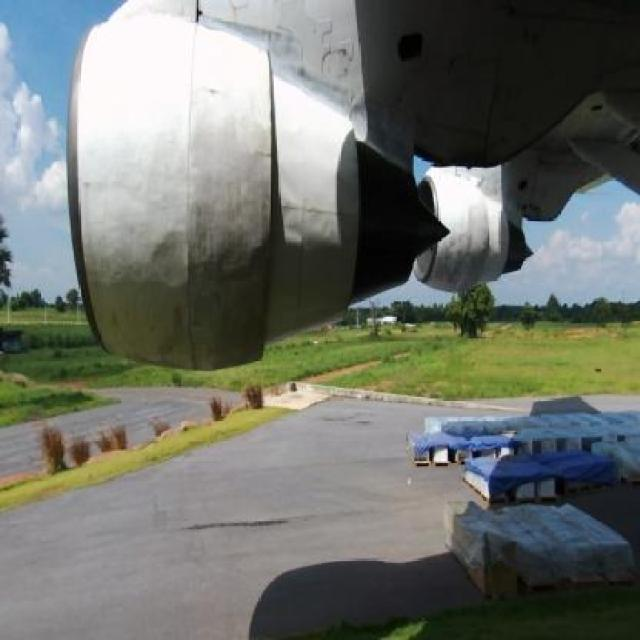Scartch: (184, 115, 274, 303), (146, 314, 271, 380)
